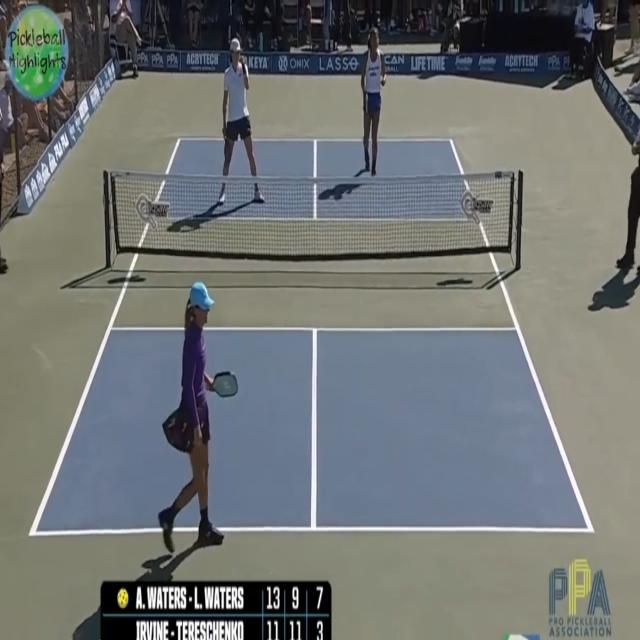Court: (32, 142, 591, 535)
